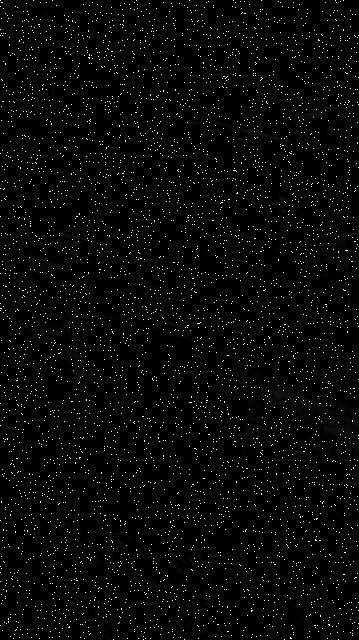pot: (71, 319, 257, 504)
